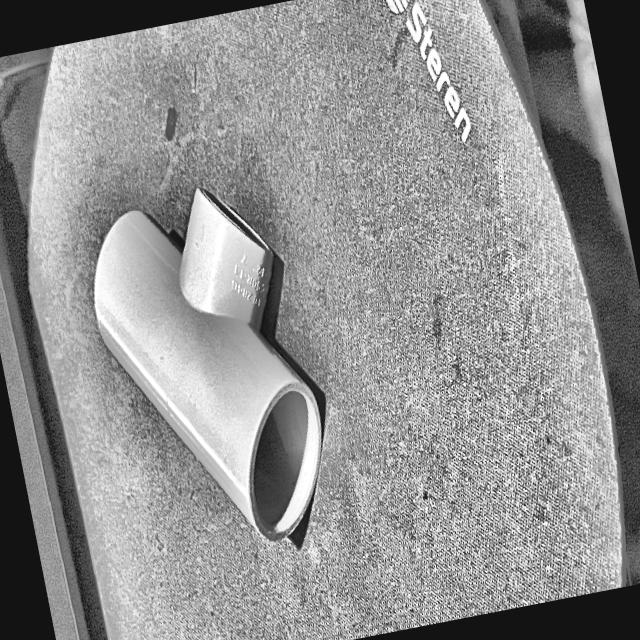EQUALTEE: (94, 186, 327, 547)
